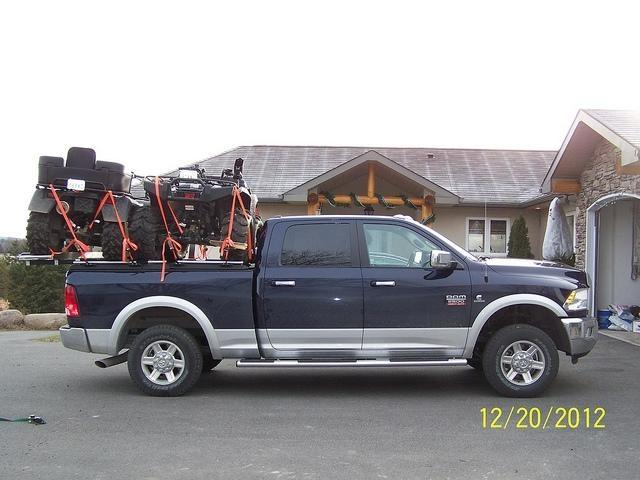truck: (60, 216, 598, 402)
